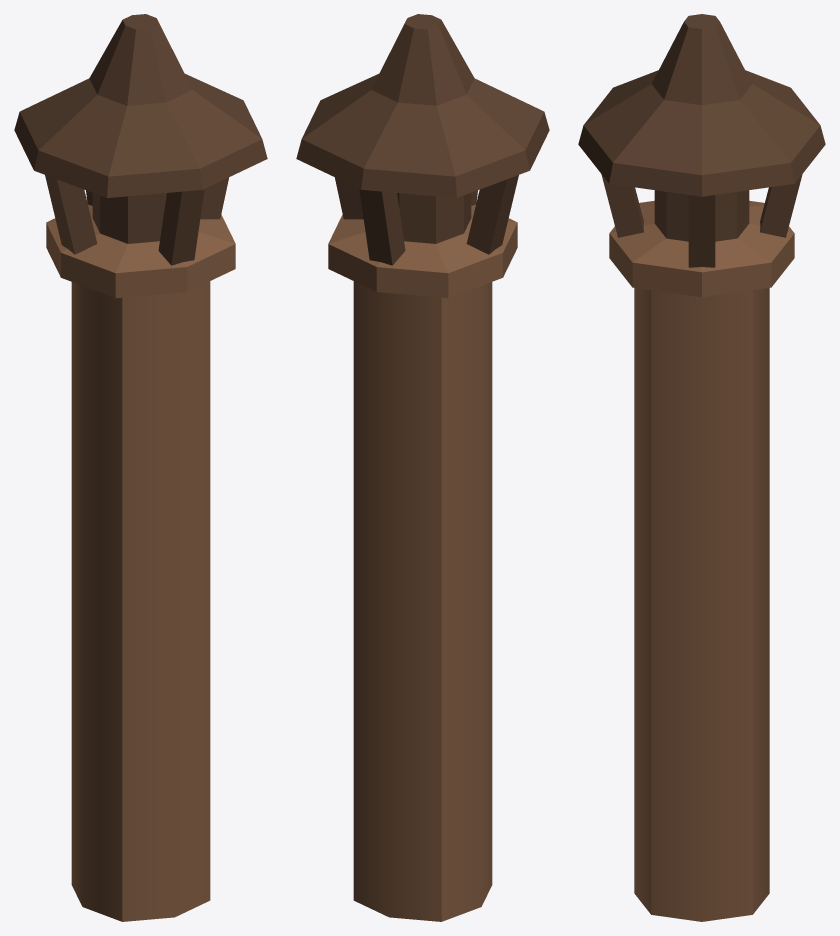
File: SM_Prop_Chimney_01.glb
3 views of the same model, side by side, from view 1: azimuth 30°, elevation 25°; view 2: azimuth 150°, elevation 25°; view 3: azimuth 270°, elevation 25° (orthographic).
Parts seen in each view (by area): view 1: SM_Prop_Chimney_01; view 2: SM_Prop_Chimney_01; view 3: SM_Prop_Chimney_01.
Boxes of the visible parts, box(x1,y1,x2,y2) form: SM_Prop_Chimney_01: box(14, 14, 267, 921); SM_Prop_Chimney_01: box(296, 14, 549, 921); SM_Prop_Chimney_01: box(578, 14, 825, 921).
Size of the model in its own units: 0.00433 by 0.0168 by 0.00433.
